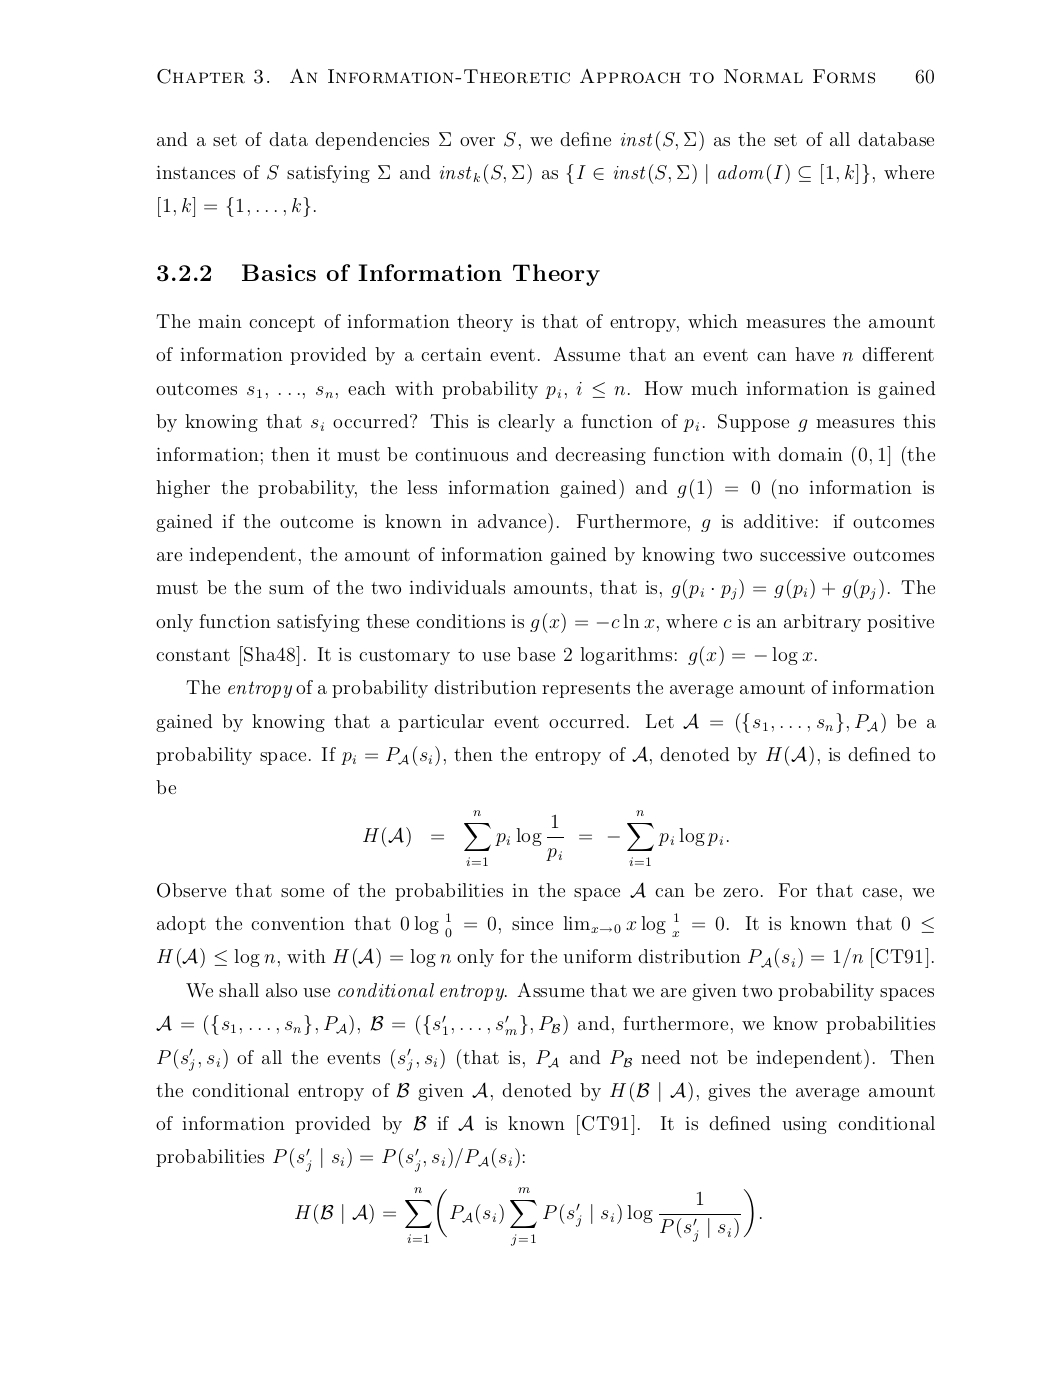formula: (295, 1185, 761, 1246), (363, 809, 728, 866), (158, 195, 315, 217)
